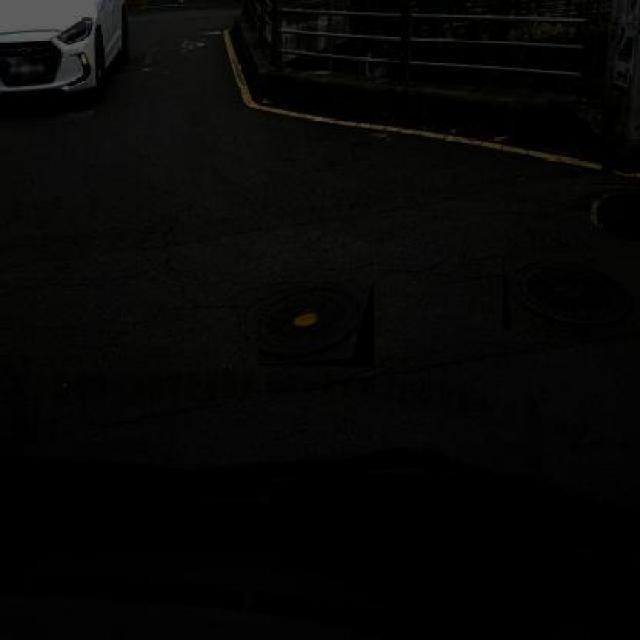Manhole: (258, 286, 374, 366), (503, 262, 639, 330), (586, 183, 640, 240)
